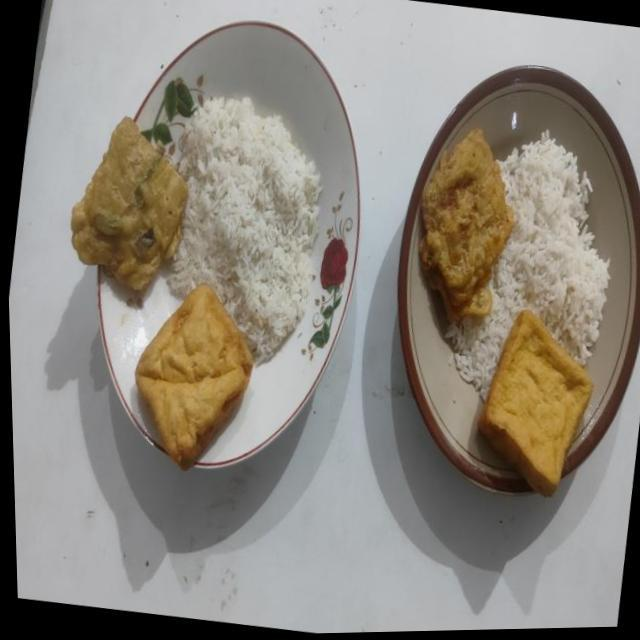nasi_putih: (447, 130, 610, 401), (168, 98, 322, 362)
tahu_goreng: (135, 285, 253, 470), (478, 310, 594, 497)
